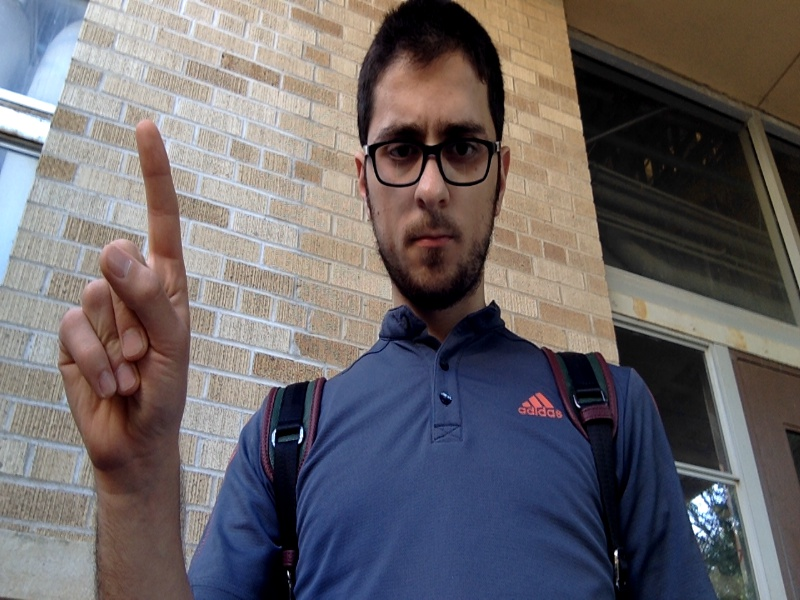1-hand: (61, 121, 189, 476)
